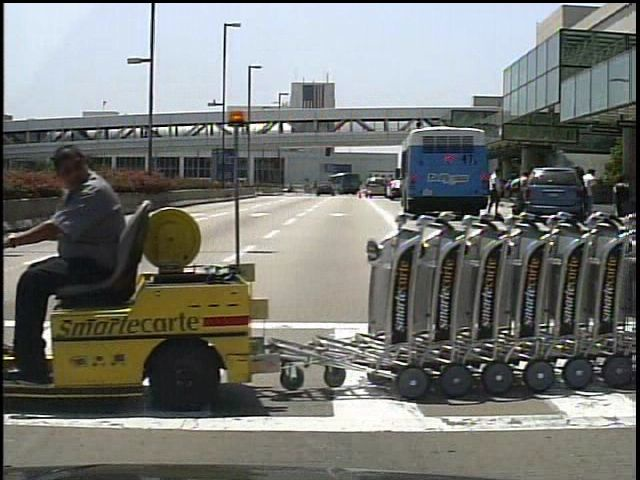person: (32, 144, 141, 383), (507, 167, 529, 220), (580, 165, 601, 214), (487, 166, 507, 217)
